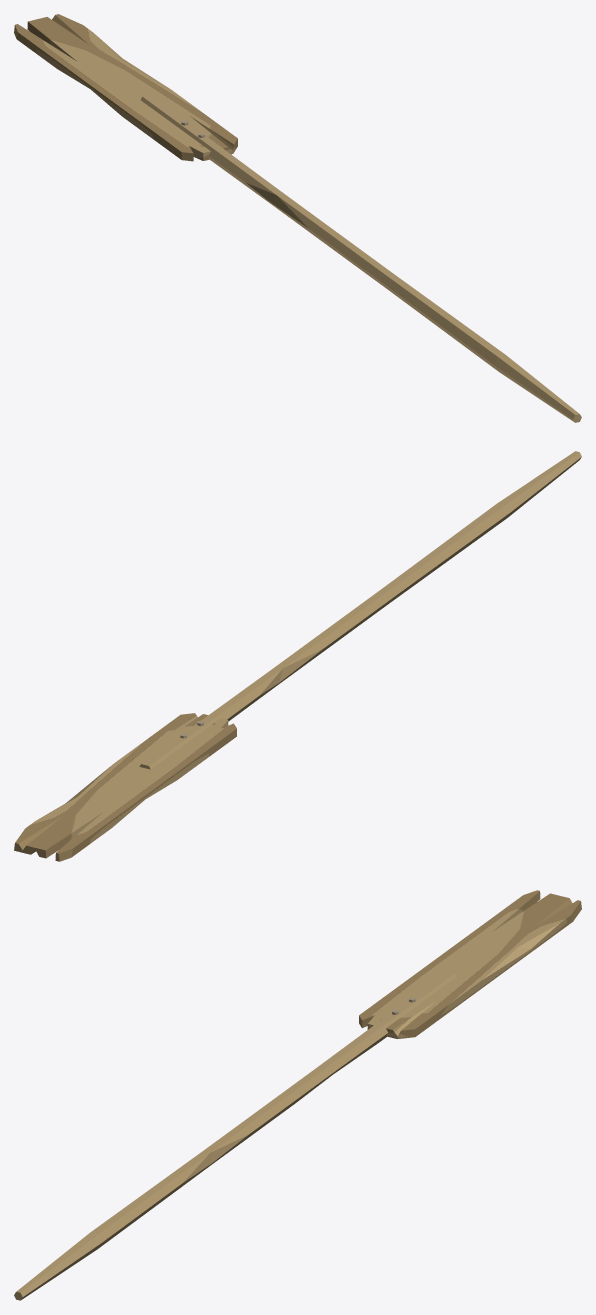
File: SM_Prop_Raft_Oar_01.glb
3 renders of one model, top to bottom at view 1: azimuth 30°, elevation 25°; view 2: azimuth 150°, elevation 25°; view 3: azimuth 330°, elevation 25°, orthographic.
Visible parts, largest first — view 1: SM_Prop_Raft_Oar_01; view 2: SM_Prop_Raft_Oar_01; view 3: SM_Prop_Raft_Oar_01.
Part boxes in pixels (box(x1,y1,x2,y2)): SM_Prop_Raft_Oar_01: box(14, 14, 581, 422); SM_Prop_Raft_Oar_01: box(14, 451, 581, 861); SM_Prop_Raft_Oar_01: box(14, 890, 581, 1300).
Bounding box in the file's own units: 0.2867 × 0.0921 × 4.77.
1 material, 1 textured.
